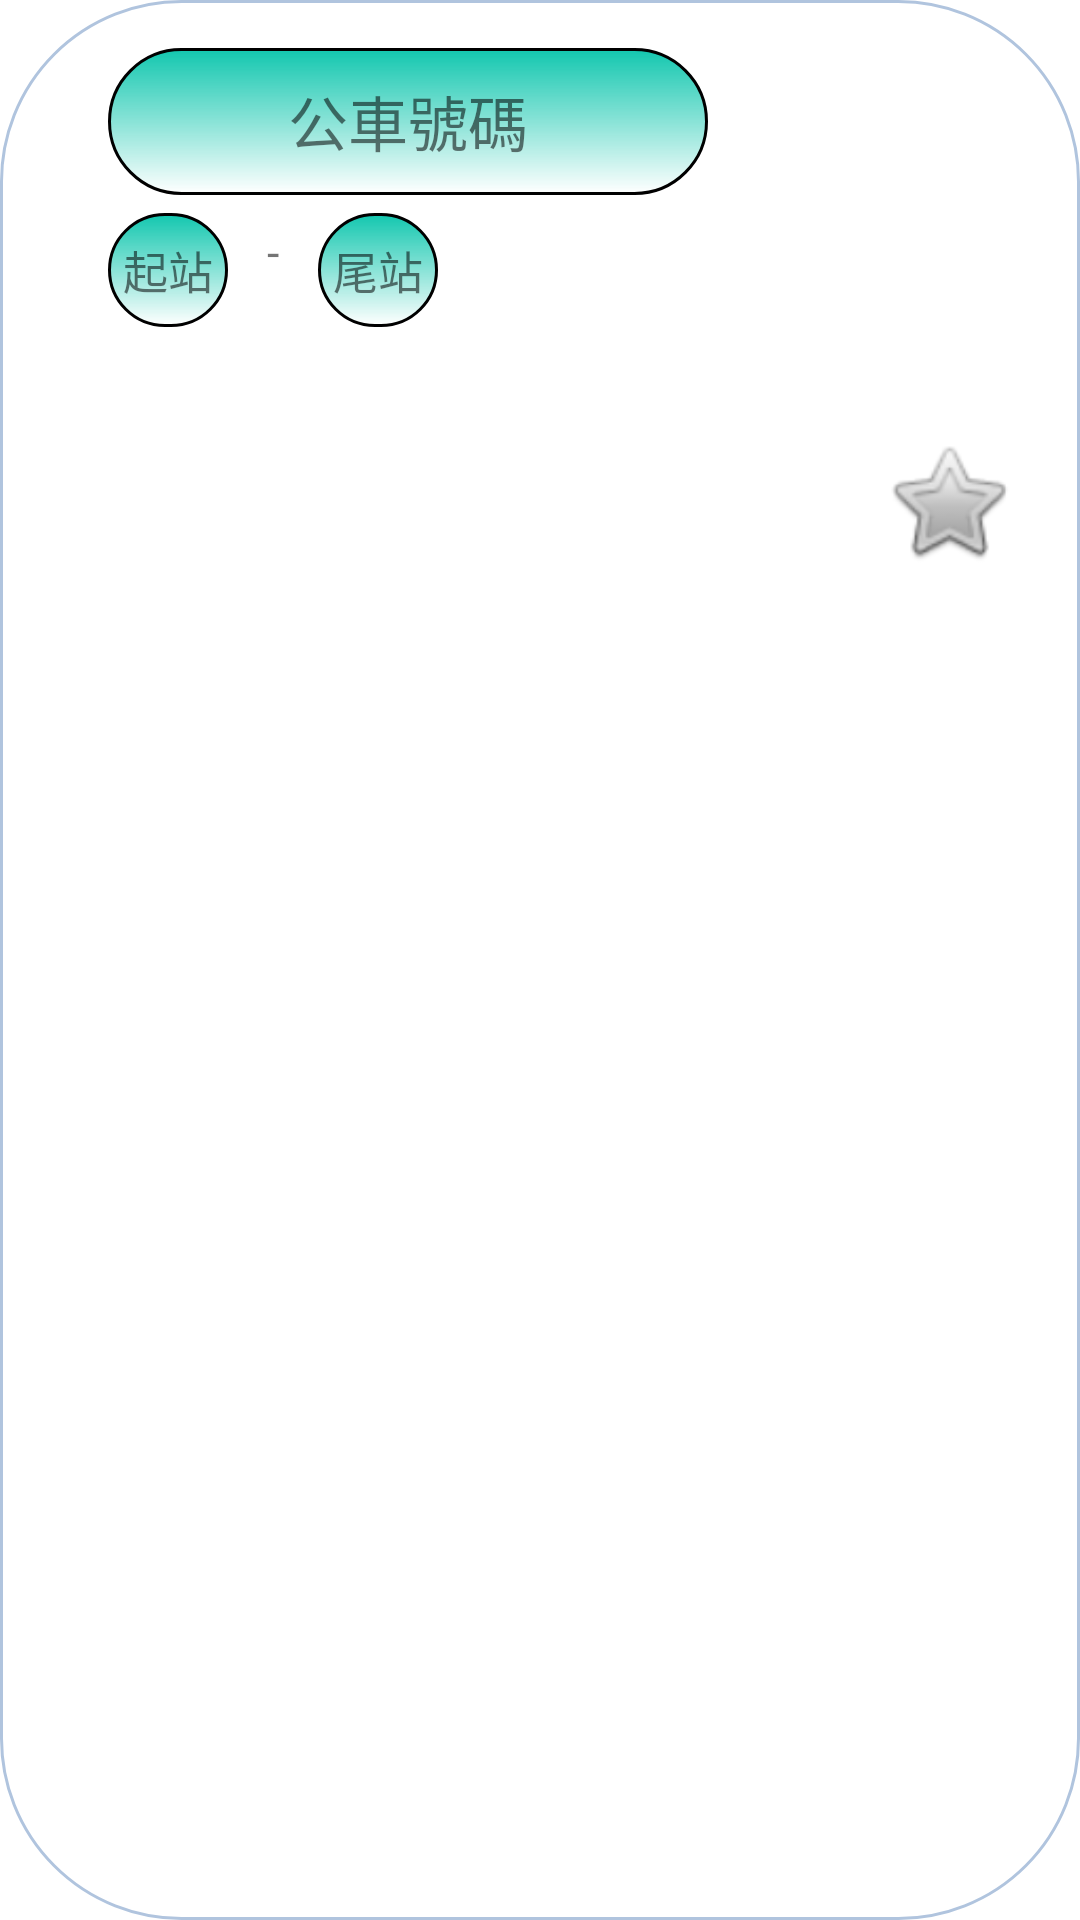

Where to tap for icons on this 1080x1920 app screen, as (x,y):
star off: (949,503)
